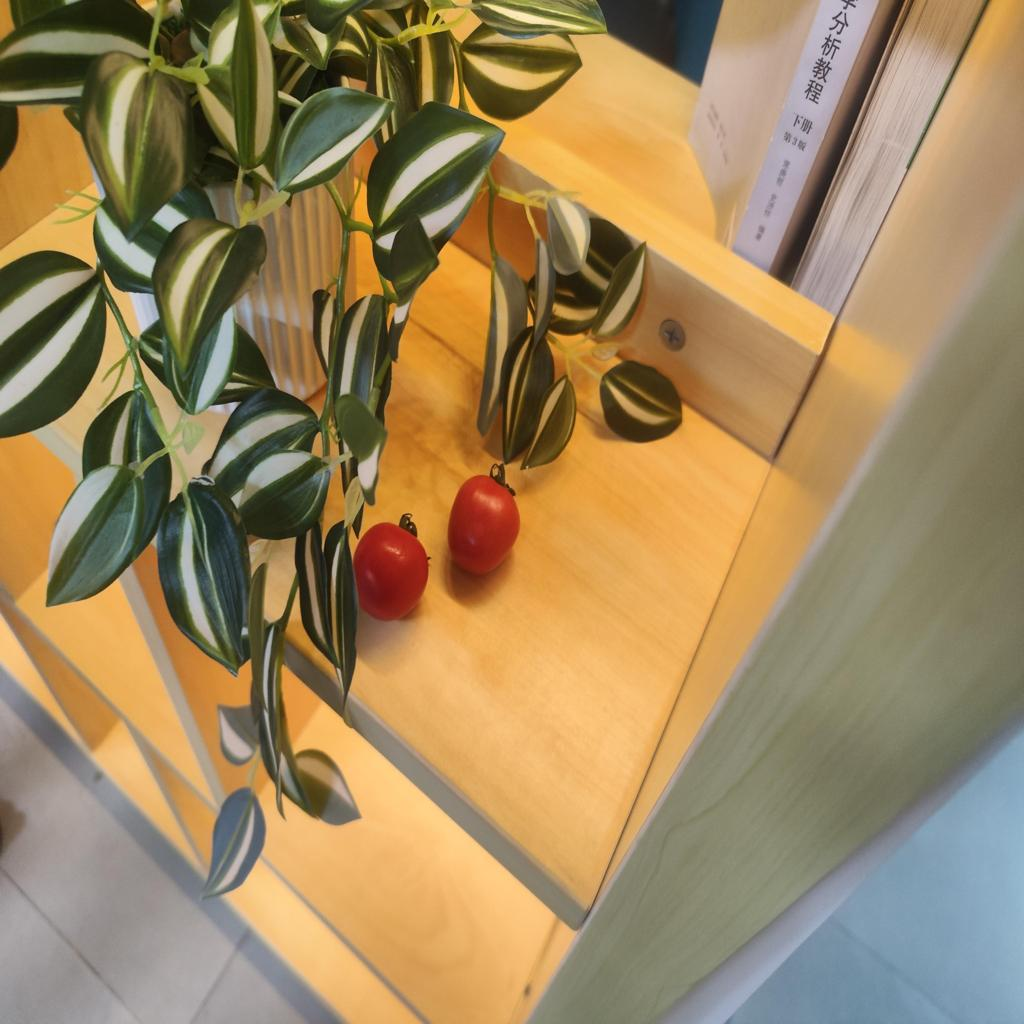tomato: (340, 517, 433, 626), (441, 473, 521, 572)
